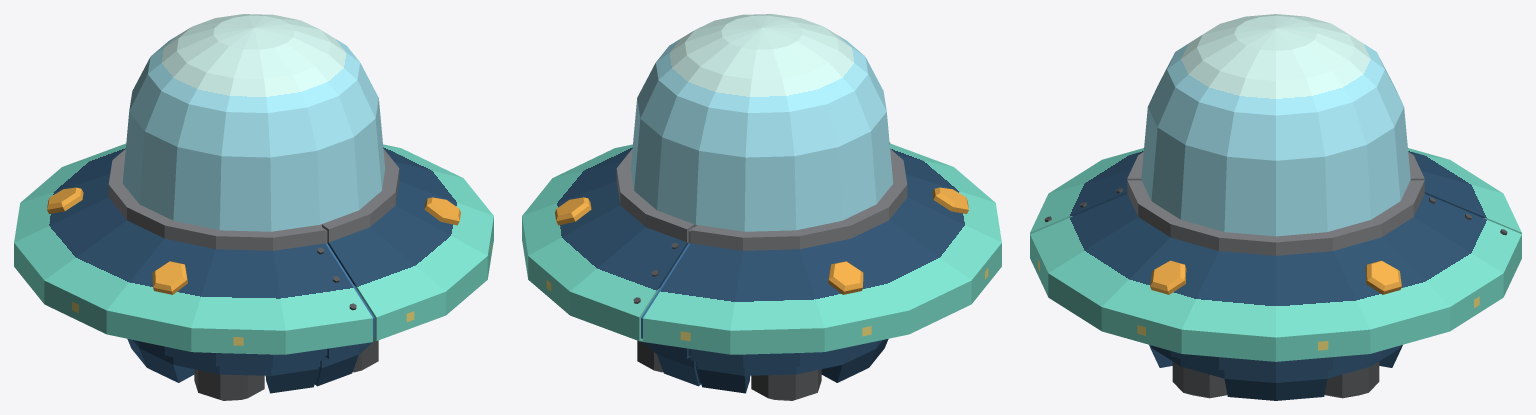
The model's file is UFO1_Unity.fbx.
The picture shows the model from 3 angles, left to right: view 1: azimuth 30°, elevation 25°; view 2: azimuth 150°, elevation 25°; view 3: azimuth 270°, elevation 25°; orthographic projection.
Visible parts, largest first — view 1: UFO1, UFO_Glass1; view 2: UFO1, UFO_Glass1; view 3: UFO1, UFO_Glass1.
Part boxes in pixels (box(x1,y1,x2,y2)): UFO1: box(14, 143, 493, 400); UFO_Glass1: box(122, 14, 385, 231); UFO1: box(522, 142, 1001, 400); UFO_Glass1: box(630, 14, 893, 231); UFO1: box(1030, 148, 1521, 400); UFO_Glass1: box(1141, 14, 1410, 236).
Bounding box in the file's own units: 157 × 157 × 117.
